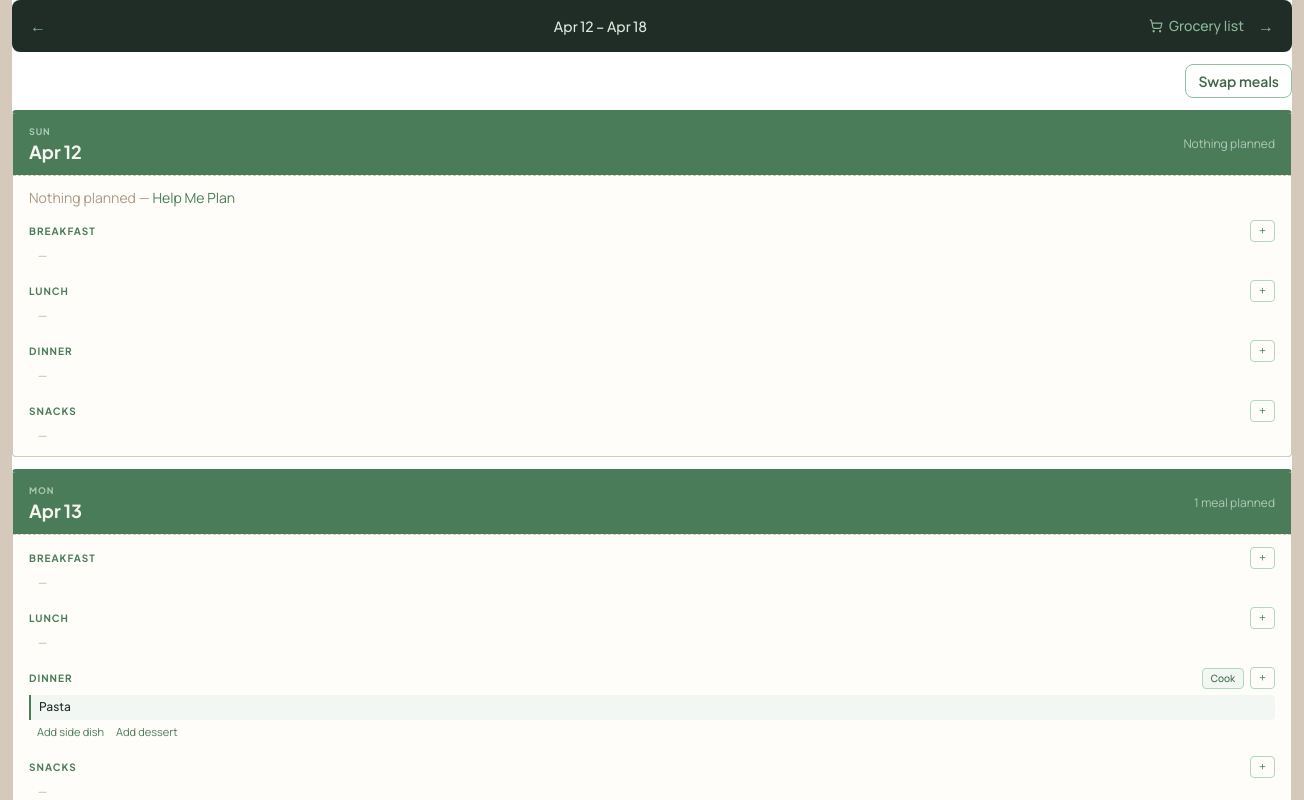
Scenario: WeekCalendar - swap meals (regression #303) › shows SwapToast after a successful swap
The image size is (1304, 800).
Click the button "Swap meals".
click(1239, 81)  # box [1185, 64, 1292, 98]
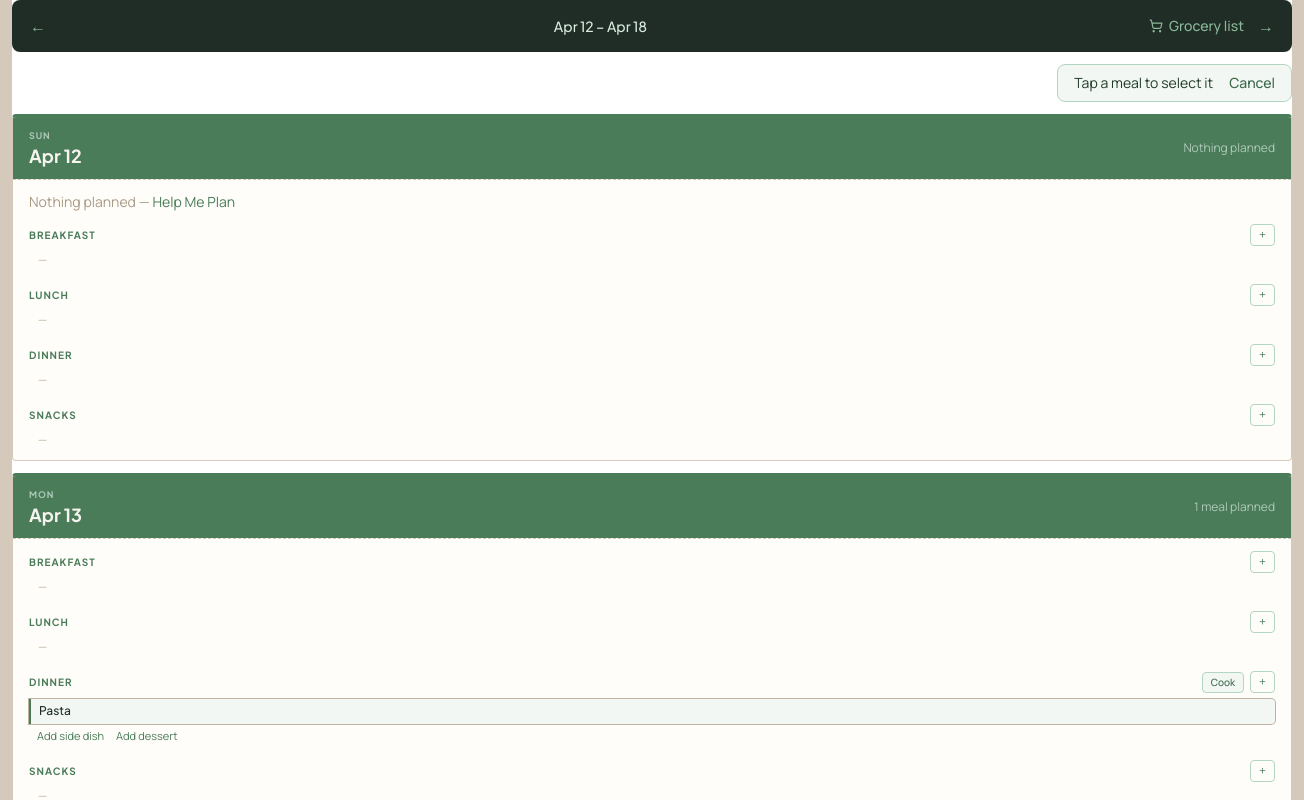
Click the text "Pasta".
click(652, 711)  # box [29, 699, 1275, 724]
(page scrolled)
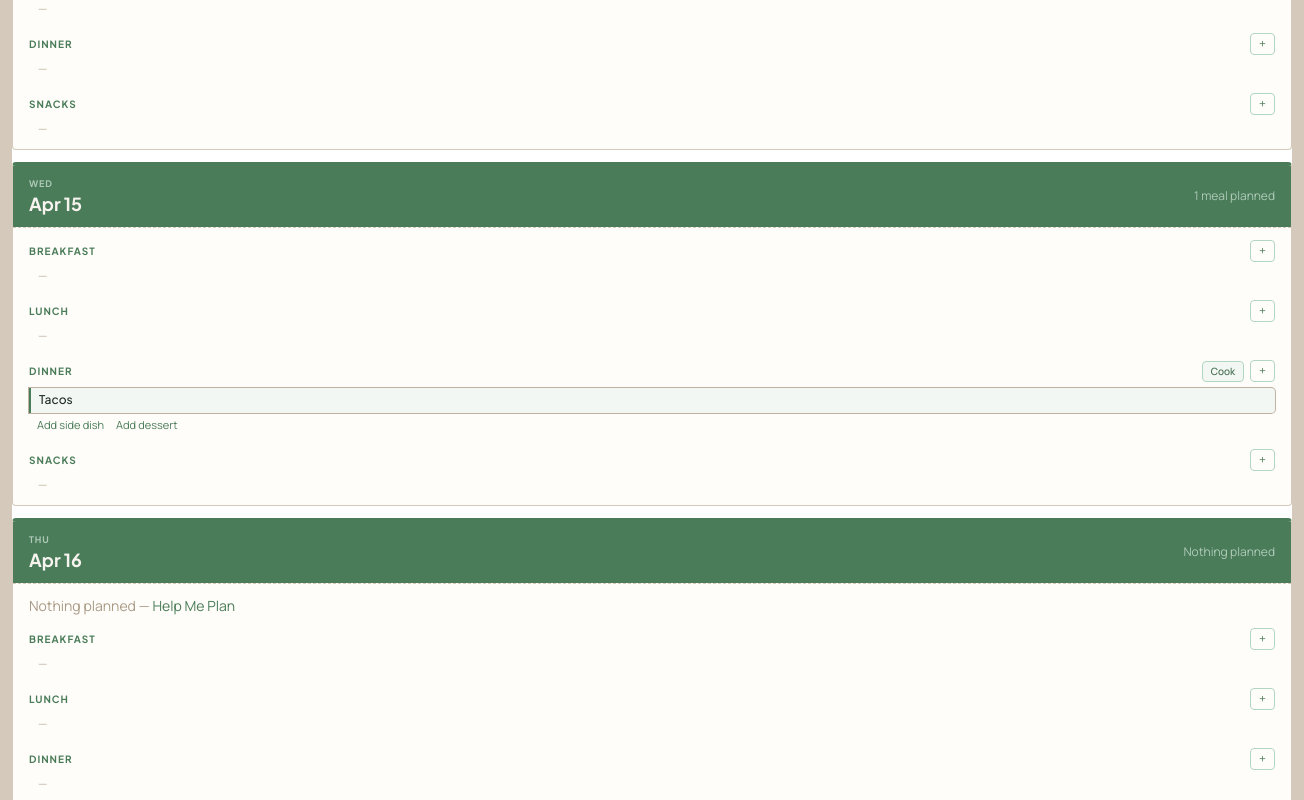
Click the text "Tacos".
click(652, 400)  # box [29, 388, 1275, 412]
(page scrolled)
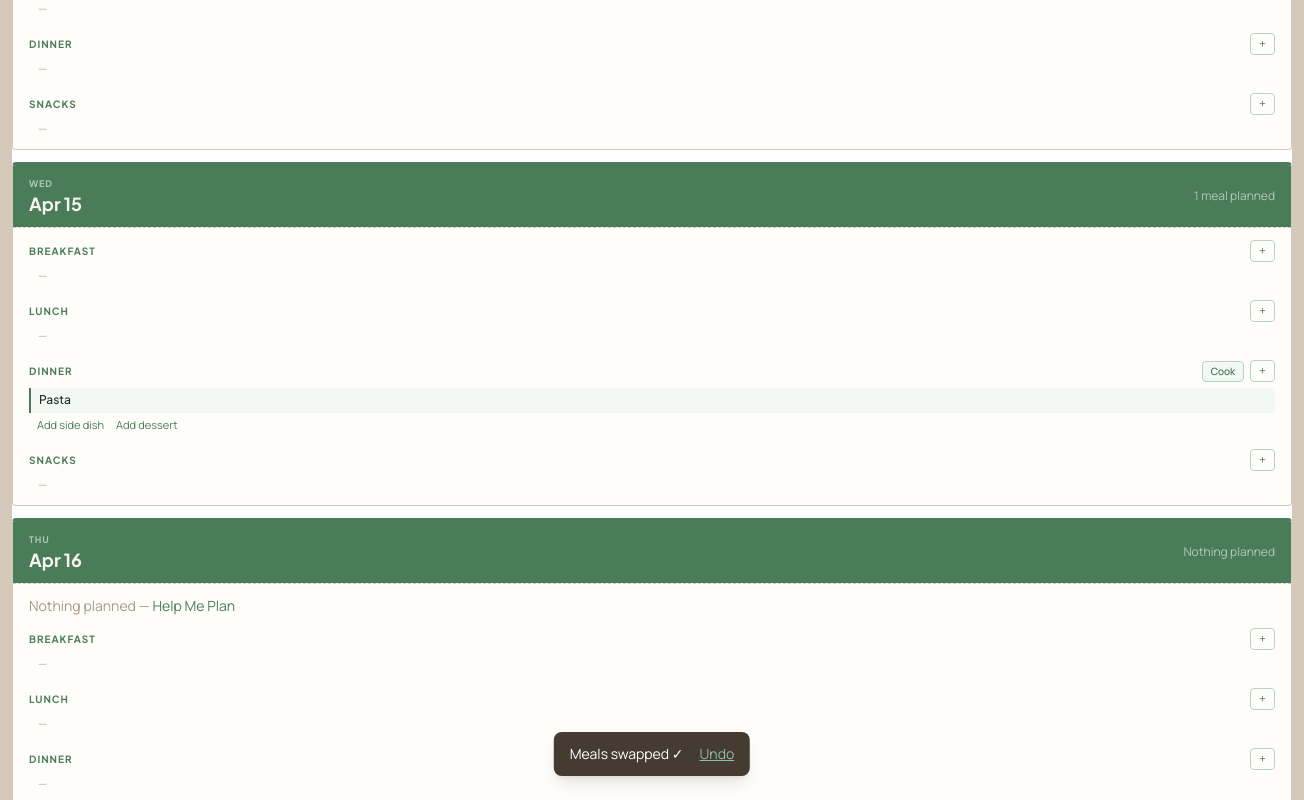
Now the text "Meals swapped ✓" is shown, box [570, 744, 684, 764]
